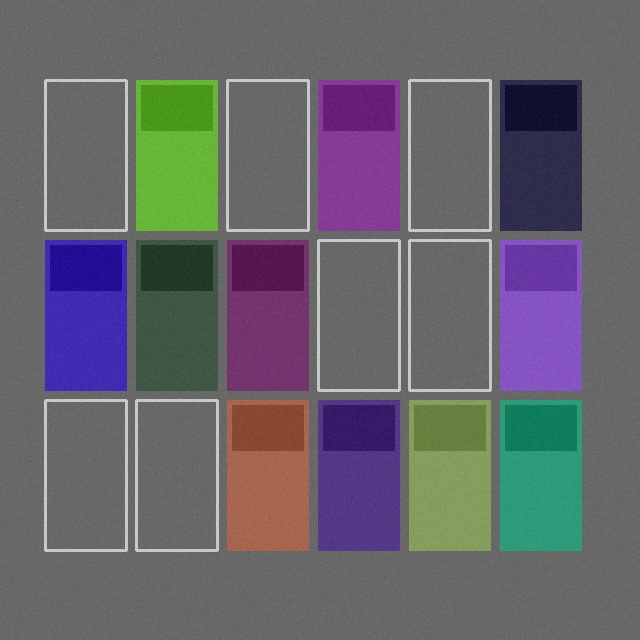space-empty: (45, 80, 126, 230), (227, 80, 308, 230), (409, 80, 490, 230), (318, 240, 399, 390), (409, 240, 490, 390), (45, 400, 126, 550), (136, 400, 217, 550)
space-occupied: (136, 80, 217, 230), (318, 80, 399, 230), (500, 80, 581, 230), (45, 240, 126, 390), (136, 240, 217, 390), (227, 240, 308, 390), (500, 240, 581, 390), (227, 400, 308, 550), (318, 400, 399, 550), (409, 400, 490, 550), (500, 400, 581, 550)
